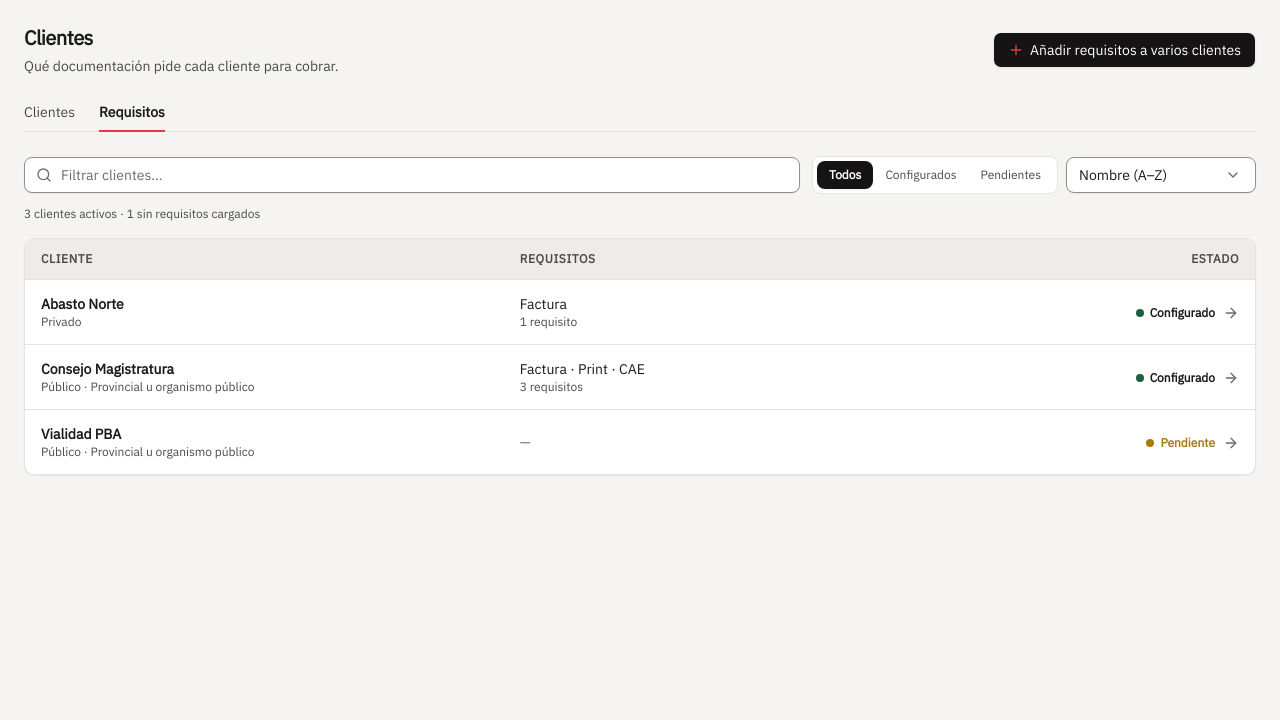
Test case: MatricesPage › abre el Wizard al clickear el botón de añadir requisitos a varios clientes
Click the button "Añadir requisitos a varios clientes". click: [1125, 50]
box: [993,32,1256,68]
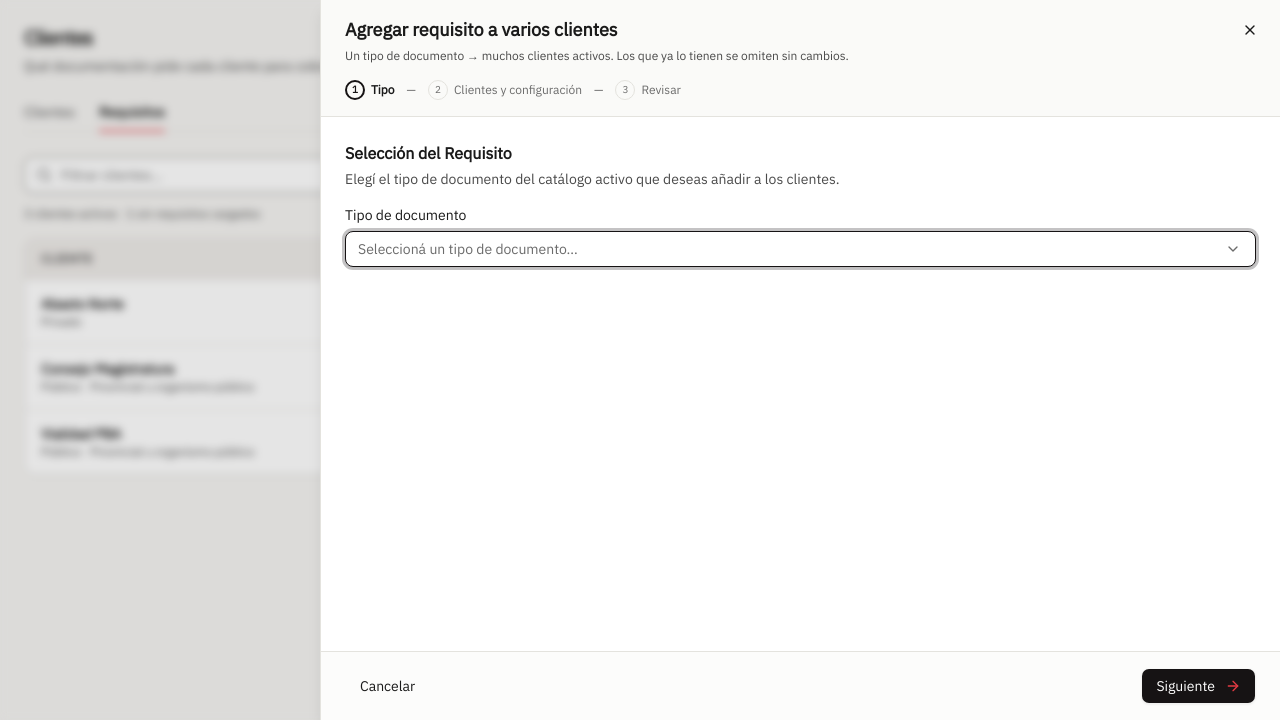
Result: the heading "Agregar requisito a varios clientes" is shown at [345,18,618,41]
